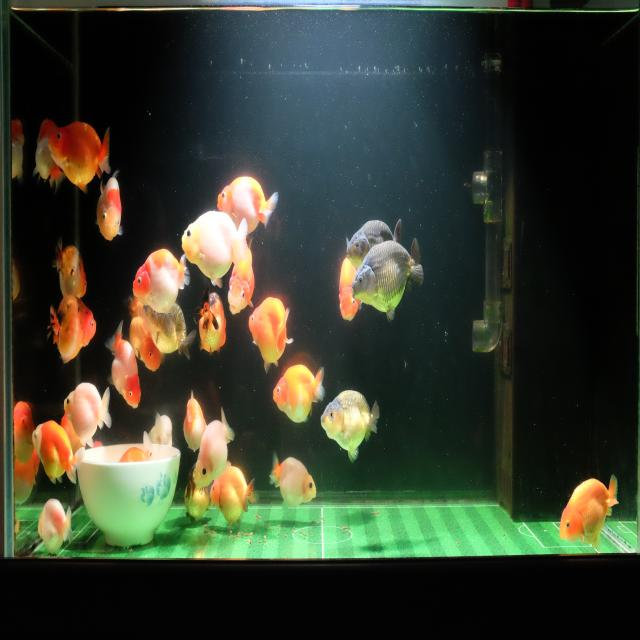Goldfish: (349, 235, 426, 323), (181, 208, 249, 289), (557, 472, 622, 550), (46, 121, 113, 193), (320, 388, 380, 466), (215, 170, 280, 241), (132, 245, 191, 317), (43, 296, 98, 370), (248, 295, 294, 379), (31, 416, 86, 486), (193, 407, 236, 492), (105, 319, 143, 411), (63, 381, 114, 449), (142, 300, 197, 362), (272, 362, 326, 424), (209, 464, 260, 528), (268, 450, 318, 514), (126, 292, 163, 375), (346, 216, 404, 265), (194, 282, 227, 360), (52, 232, 88, 303), (226, 237, 256, 319), (36, 494, 74, 558), (94, 168, 123, 245), (183, 462, 214, 527), (183, 389, 208, 457), (12, 396, 35, 468), (338, 257, 362, 324)
